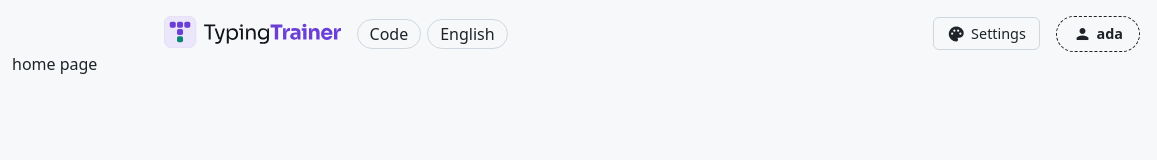
it: the shared header › asks first when the screen has something to lose, and stays on "cancel"
The width and height of the screenshot is (1157, 160).
Click the link "English".
click(467, 34)  # box [427, 19, 508, 49]
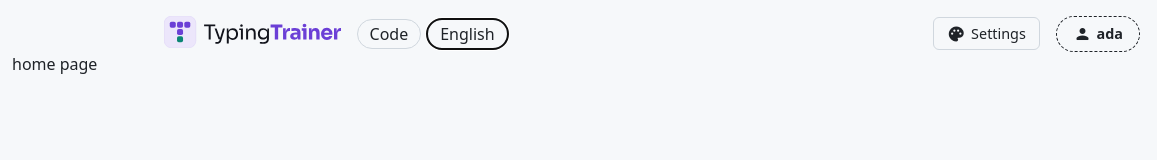
Expected: the text "english page" is not shown
Click the link "English".
click(467, 34)  # box [427, 19, 508, 49]
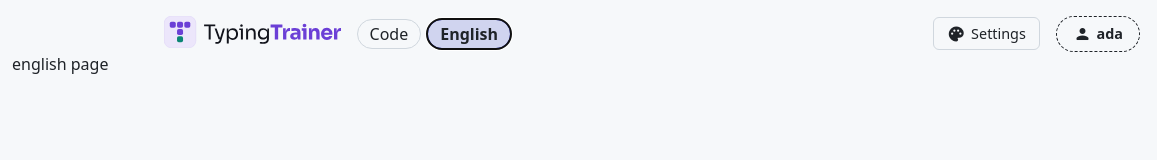
Result: the text "english page" is shown at [12, 53, 108, 75]
